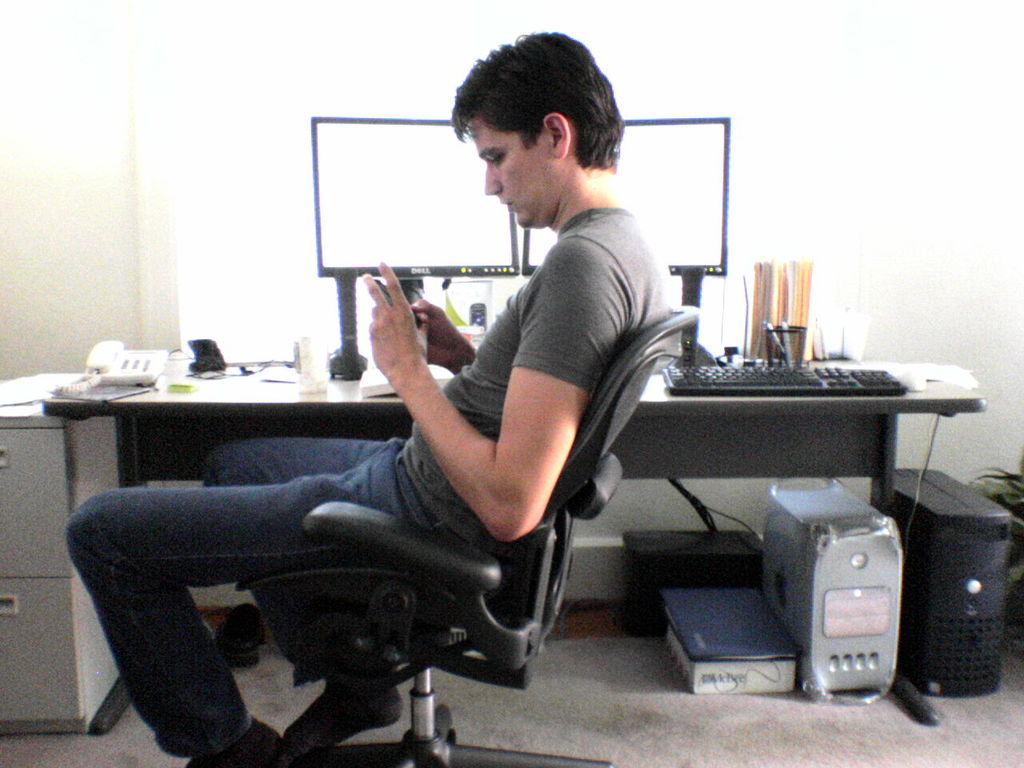Chair: (62, 350, 612, 764)
